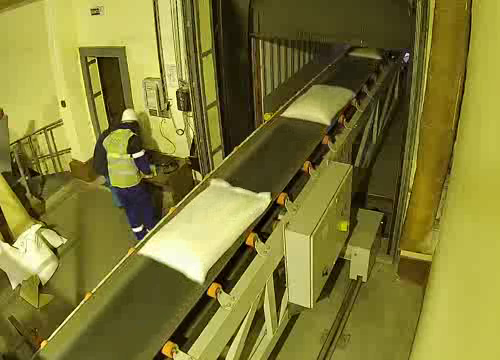bag: (133, 176, 280, 288), (272, 81, 362, 127), (343, 45, 393, 62)
